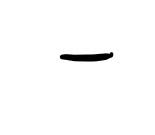minus: (56, 51, 113, 62)
